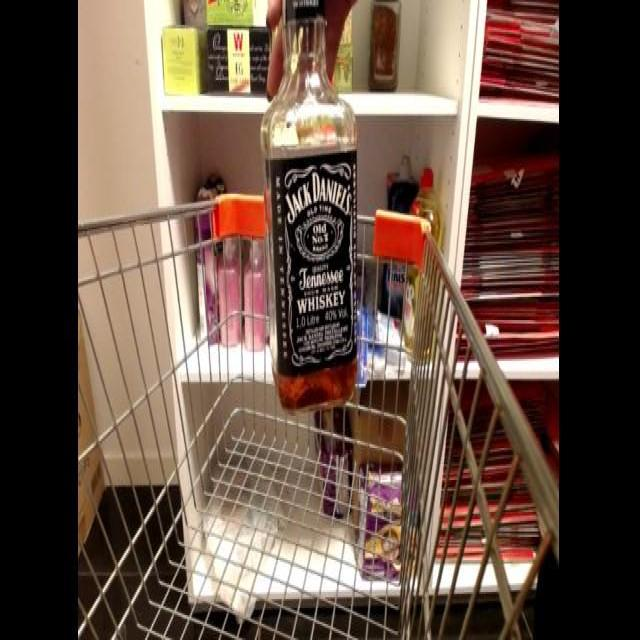Jack Daniels: (254, 0, 368, 423)
